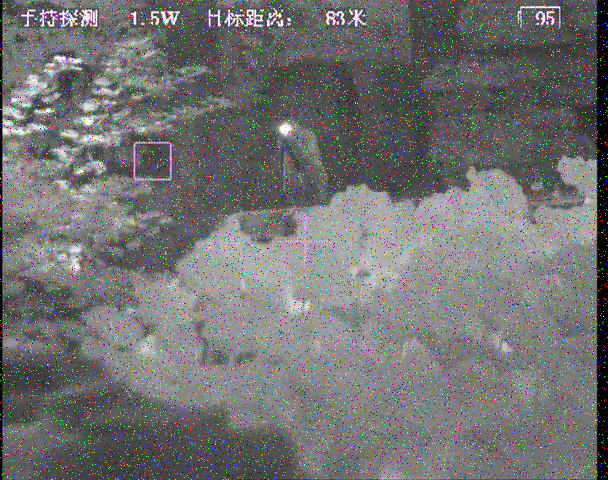my: (278, 122, 292, 137)
